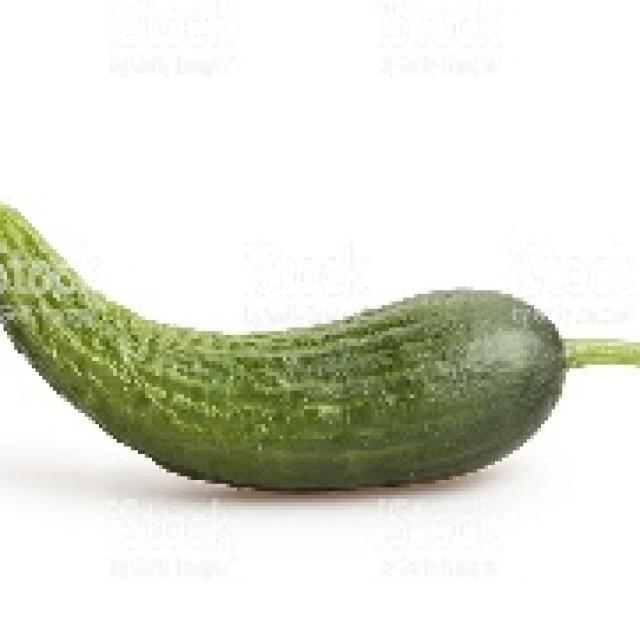cucumber: (0, 186, 573, 487)
